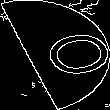O_W: (10, 26, 100, 84)
